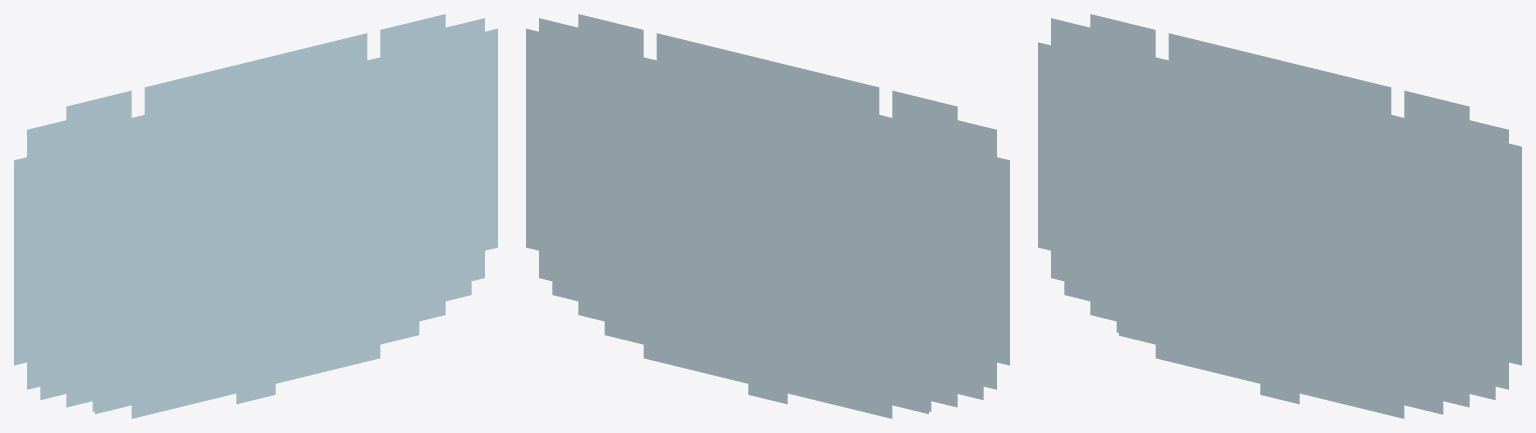
The model's file is wp_water_209.obj.
3 views of the same model, side by side, from view 1: azimuth 30°, elevation 25°; view 2: azimuth 150°, elevation 25°; view 3: azimuth 330°, elevation 25° (orthographic).
Size of the model in its own units: 0.5184 by 0.3474 by 0.
Materials: 1 (1 with a texture image).
